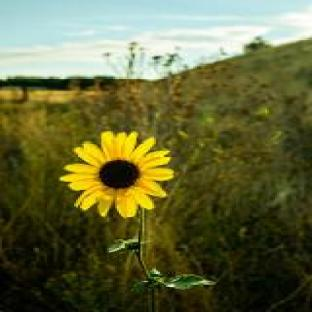sunflower: (60, 131, 176, 220)
